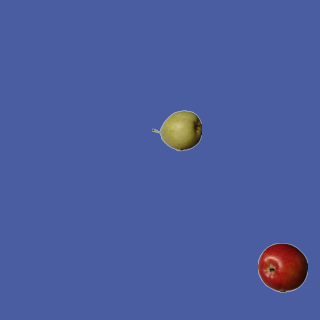Apple Braeburn: (257, 242, 307, 292)
Pear: (151, 105, 201, 155)
